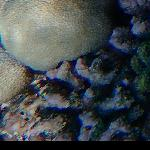dead: (3, 3, 144, 138)
